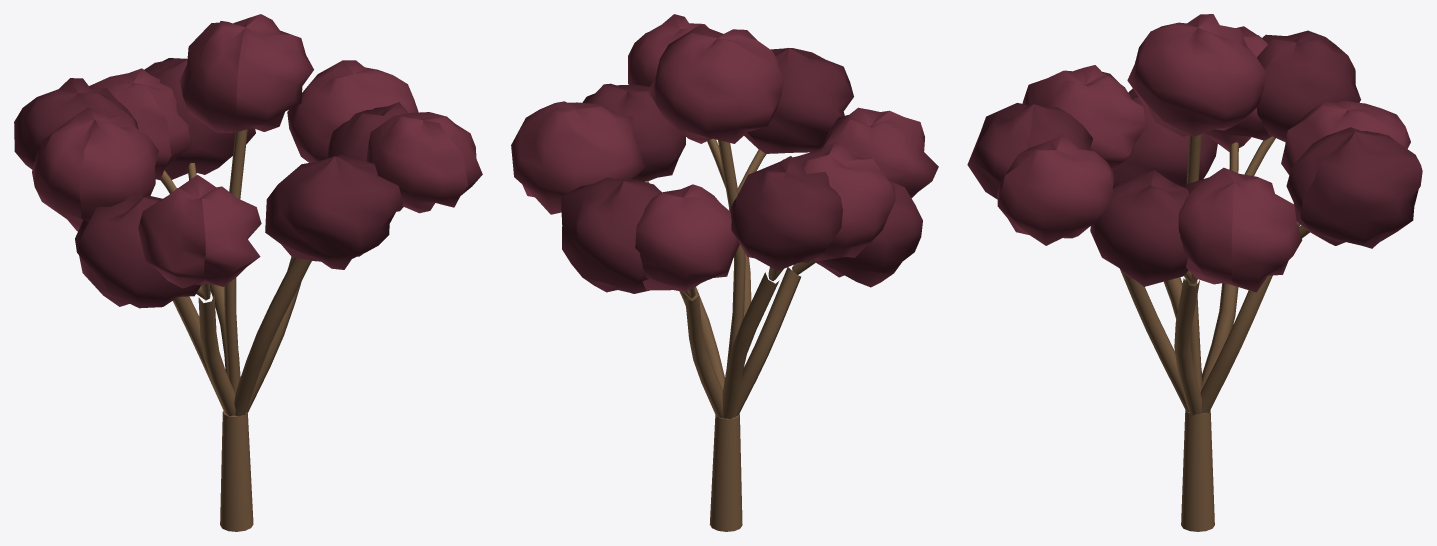
The model's file is acer-emperor-1.glb.
The picture shows the model from 3 angles, left to right: view 1: azimuth 30°, elevation 25°; view 2: azimuth 150°, elevation 25°; view 3: azimuth 270°, elevation 25°; orthographic projection. The views are drawn at different scales.
Parts seen in each view (by area): view 1: korona-11, korona-6, korona-9, korona-7, korona-5, korona-8, korona-3, korona-1, korona-10, korona-2, torzs, vazag-3 (+6 smaller); view 2: korona-11, korona-3, korona-10, korona-1, korona-2, korona-6, korona-9, korona-7, korona-4, korona-8, torzs, vazag-5 (+5 smaller); view 3: korona-2, korona-11, korona-3, korona-5, korona-4, korona-10, korona-7, korona-6, korona-1, korona-8, torzs, vazag-1 (+5 smaller).
Part boxes in pixels (x1=…): korona-11: x1=179, y1=14, x2=313, y2=132; korona-6: x1=265, y1=154, x2=402, y2=269; korona-9: x1=32, y1=107, x2=158, y2=231; korona-7: x1=138, y1=175, x2=261, y2=288; korona-5: x1=366, y1=112, x2=482, y2=213; korona-8: x1=75, y1=192, x2=201, y2=308; korona-3: x1=287, y1=60, x2=418, y2=162; korona-1: x1=89, y1=68, x2=191, y2=179; korona-10: x1=14, y1=78, x2=138, y2=169; korona-2: x1=144, y1=58, x2=255, y2=179; torzs: x1=220, y1=411, x2=253, y2=531; vazag-3: x1=234, y1=258, x2=311, y2=416; korona-11: x1=648, y1=25, x2=783, y2=143; korona-3: x1=511, y1=101, x2=645, y2=214; korona-10: x1=729, y1=156, x2=842, y2=270; korona-1: x1=635, y1=184, x2=739, y2=291; korona-2: x1=561, y1=177, x2=661, y2=293; korona-6: x1=744, y1=48, x2=853, y2=153; korona-9: x1=783, y1=142, x2=895, y2=260; korona-7: x1=820, y1=107, x2=938, y2=198; korona-4: x1=582, y1=83, x2=685, y2=181; korona-8: x1=812, y1=179, x2=922, y2=287; torzs: x1=709, y1=414, x2=742, y2=531; vazag-5: x1=722, y1=272, x2=779, y2=418; korona-2: x1=1286, y1=127, x2=1422, y2=248; korona-11: x1=1127, y1=14, x2=1266, y2=136; korona-3: x1=1178, y1=167, x2=1302, y2=292; korona-5: x1=997, y1=134, x2=1114, y2=245; korona-4: x1=1090, y1=170, x2=1189, y2=286; korona-10: x1=1257, y1=30, x2=1360, y2=142; korona-7: x1=1022, y1=65, x2=1147, y2=170; korona-6: x1=967, y1=103, x2=1092, y2=199; korona-1: x1=1281, y1=100, x2=1410, y2=174; korona-8: x1=1113, y1=88, x2=1217, y2=187; torzs: x1=1181, y1=410, x2=1214, y2=531; vazag-1: x1=1200, y1=275, x2=1272, y2=413.
Bounding box in the file's own units: 3.52 × 4.5 × 3.66.
